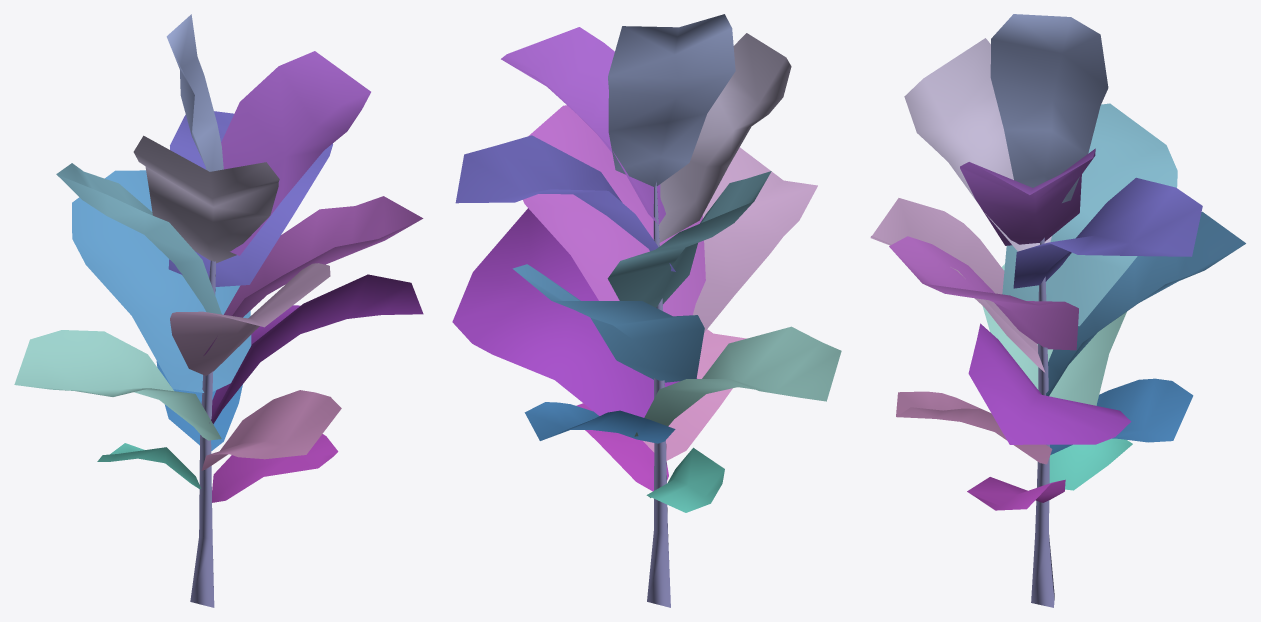
3 views of the same model, side by side, from view 1: azimuth 30°, elevation 25°; view 2: azimuth 150°, elevation 25°; view 3: azimuth 270°, elevation 25° (orthographic). The views are drawn at different scales.
Parts seen in each view (by area): view 1: SM_BS_Fiddle_60cm_HD; view 2: SM_BS_Fiddle_60cm_HD; view 3: SM_BS_Fiddle_60cm_HD.
Boxes of the visible parts, <box> form: SM_BS_Fiddle_60cm_HD: <box>14,14,423,607</box>; SM_BS_Fiddle_60cm_HD: <box>452,14,841,607</box>; SM_BS_Fiddle_60cm_HD: <box>870,14,1245,607</box>.
Bounding box in the file's own units: 13.65 × 15.88 × 23.
